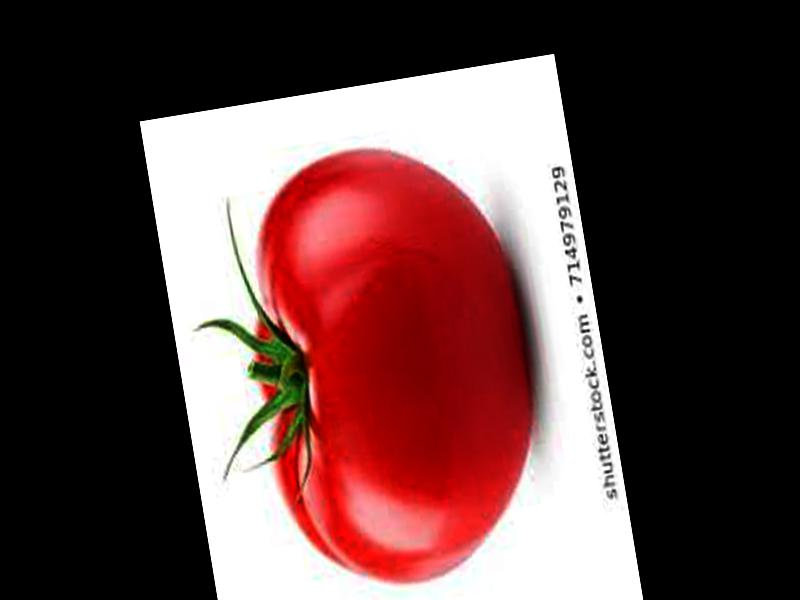Tomato: (228, 129, 558, 600)
